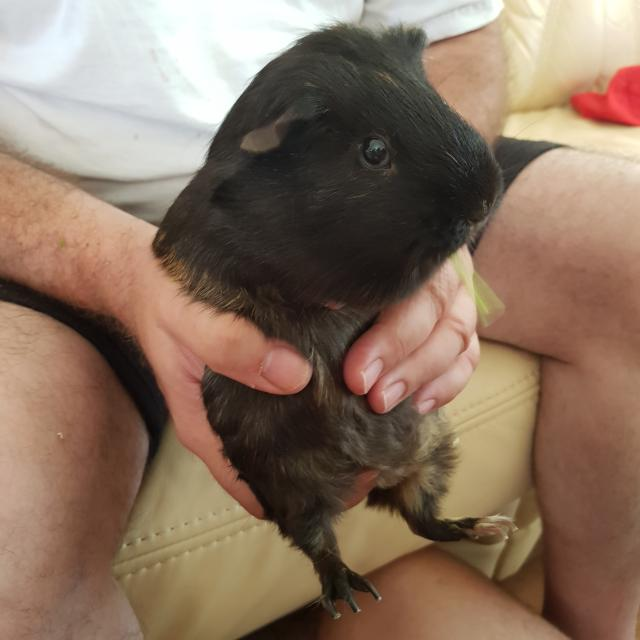guinea pig: (150, 16, 524, 624)
